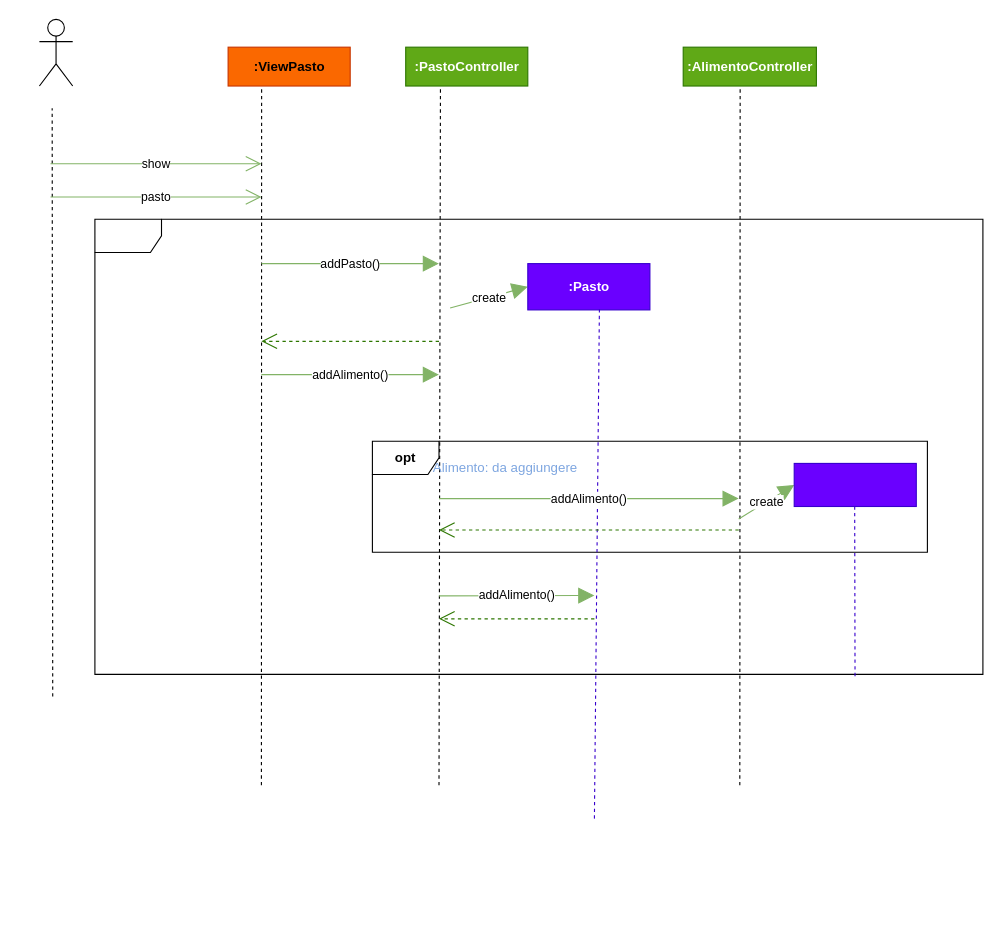
This 1002x938 diagram has some shape labels left out. Here are the shapes that lost their labels. From the top down, the box of each, then its label:
(38, 18, 73, 86): Nutrizionista
(94, 218, 983, 674): loop
(793, 462, 916, 506): Alimento
